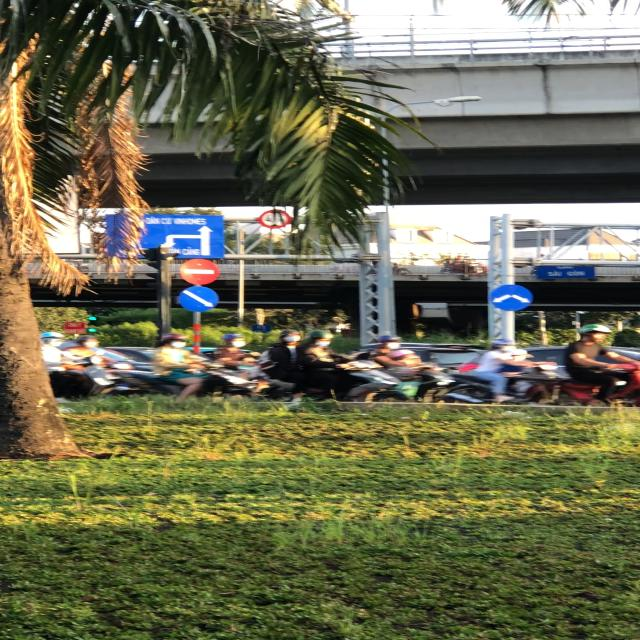Bien bao cam di nguoc chieu: (178, 257, 222, 286)
Bien bao huong phai di vong chuong ngai vat: (488, 281, 536, 313), (173, 284, 226, 312)
